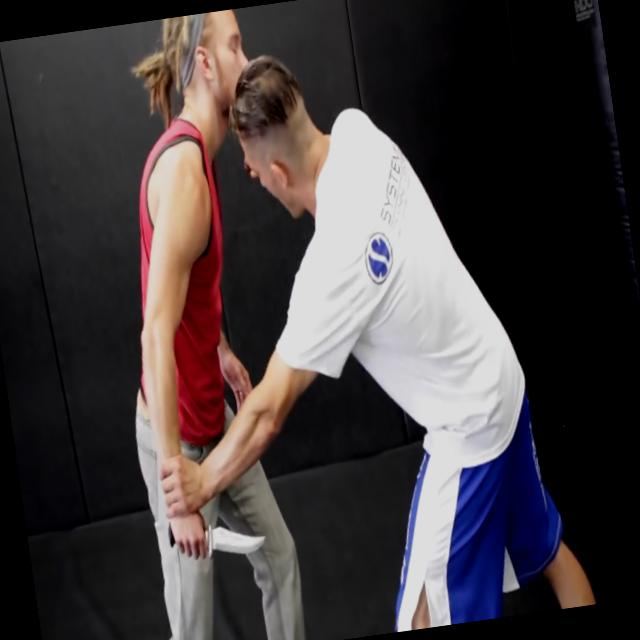knife: (157, 493, 276, 574)
